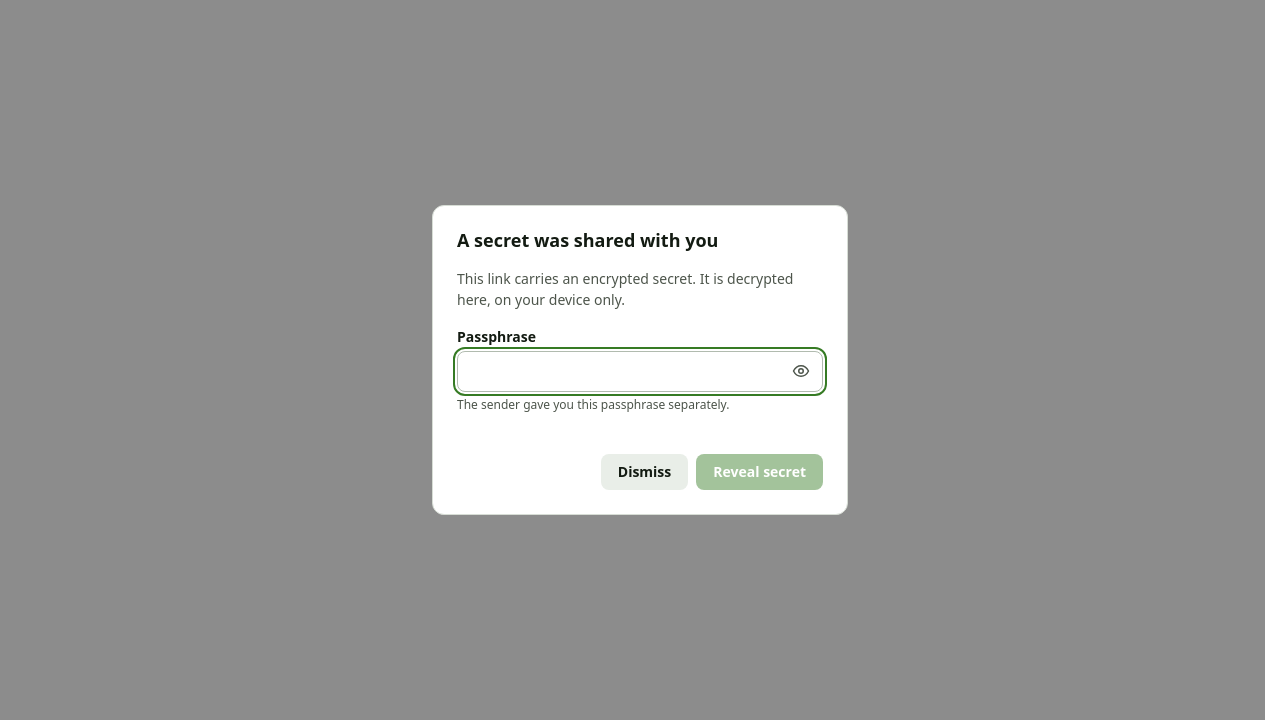
Test: ShareOpenDialog › reports expiry, not a wrong passphrase, on an expired pass-mode link
The width and height of the screenshot is (1280, 720).
Type "open sesame" into the password field labelled "Passphrase" at (640, 371), box x1=457 y1=351 x2=823 y2=392
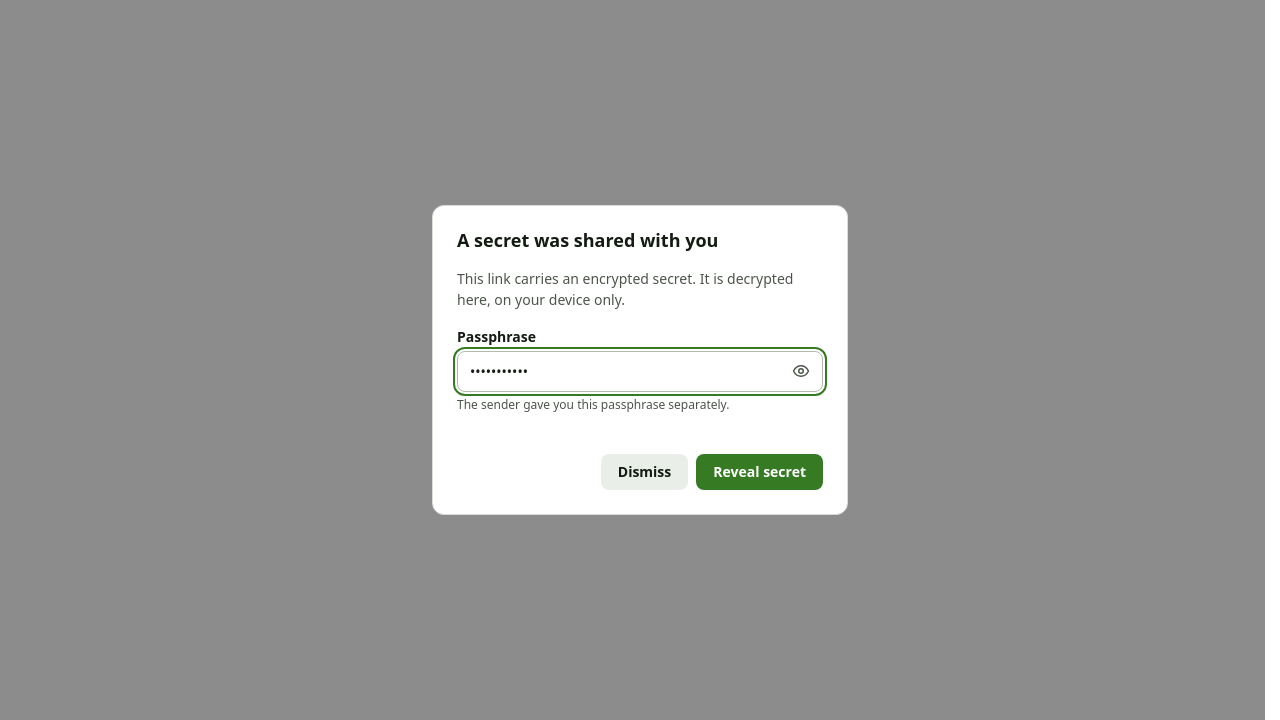
Click the button "Reveal secret" at (760, 472), box x1=696 y1=454 x2=823 y2=490
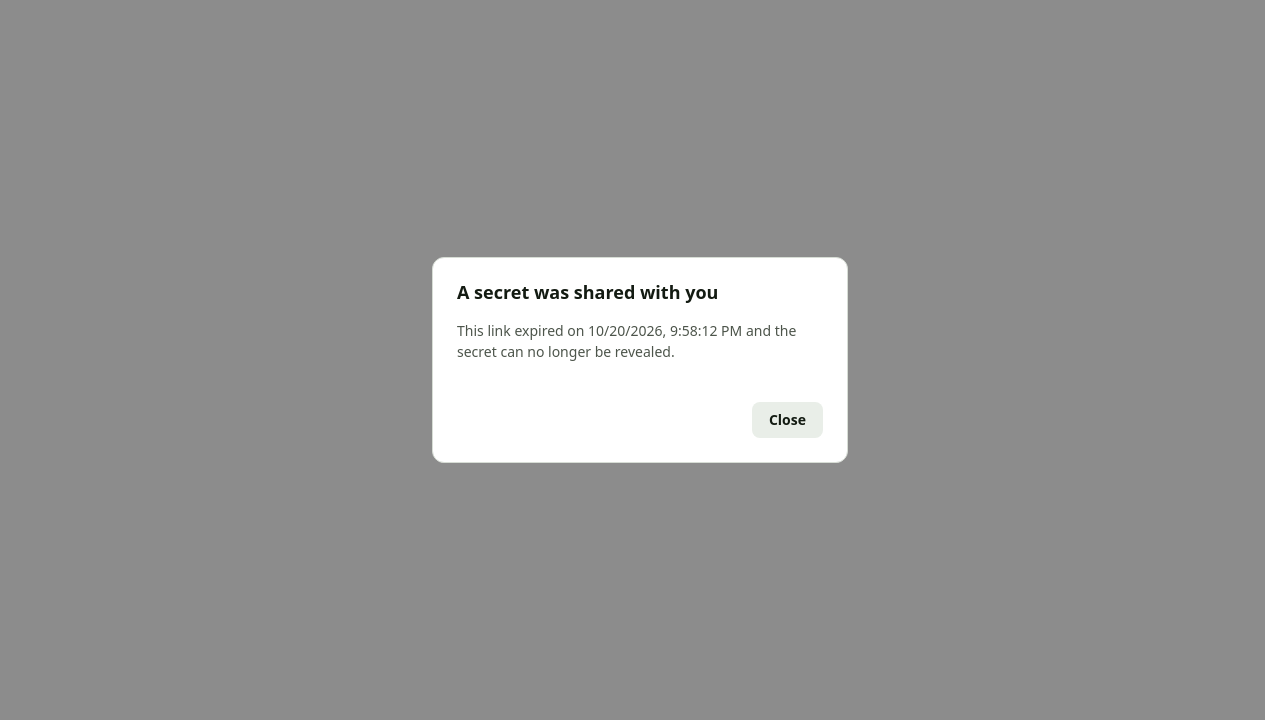
Result: the text "This link expired on" is shown at x1=457 y1=321 x2=588 y2=340
